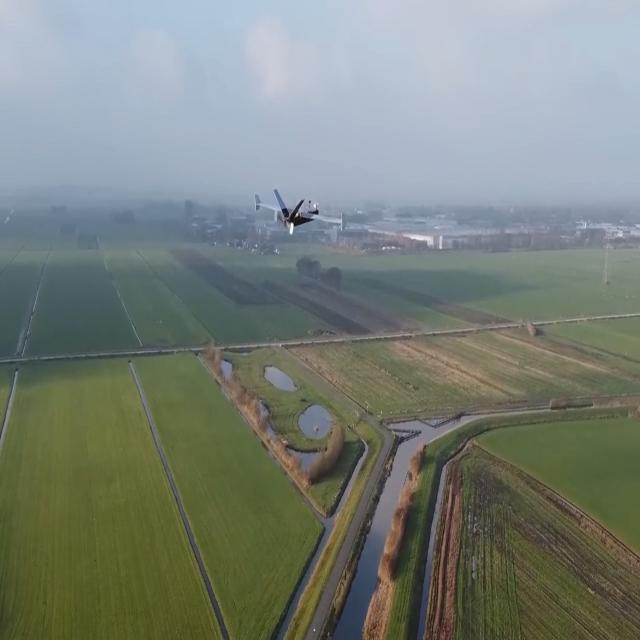iha: (286, 183, 316, 243)
